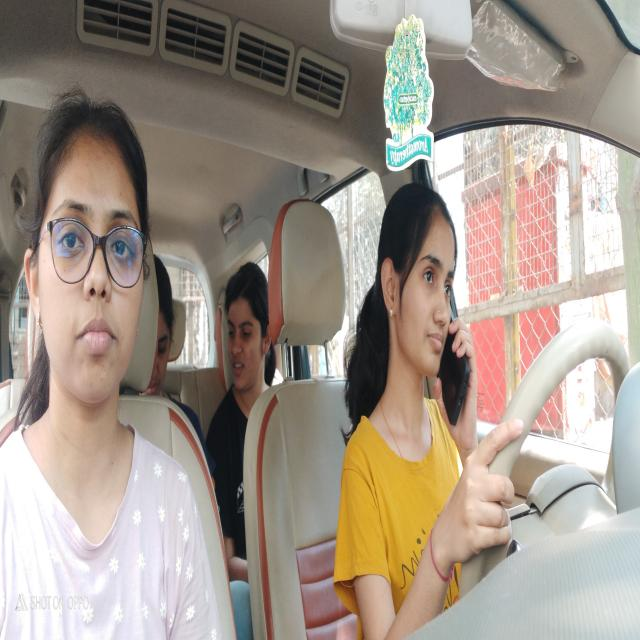mobile: (440, 300, 474, 434)
person: (23, 80, 154, 420), (377, 174, 468, 436), (226, 266, 276, 403), (149, 242, 177, 396)
